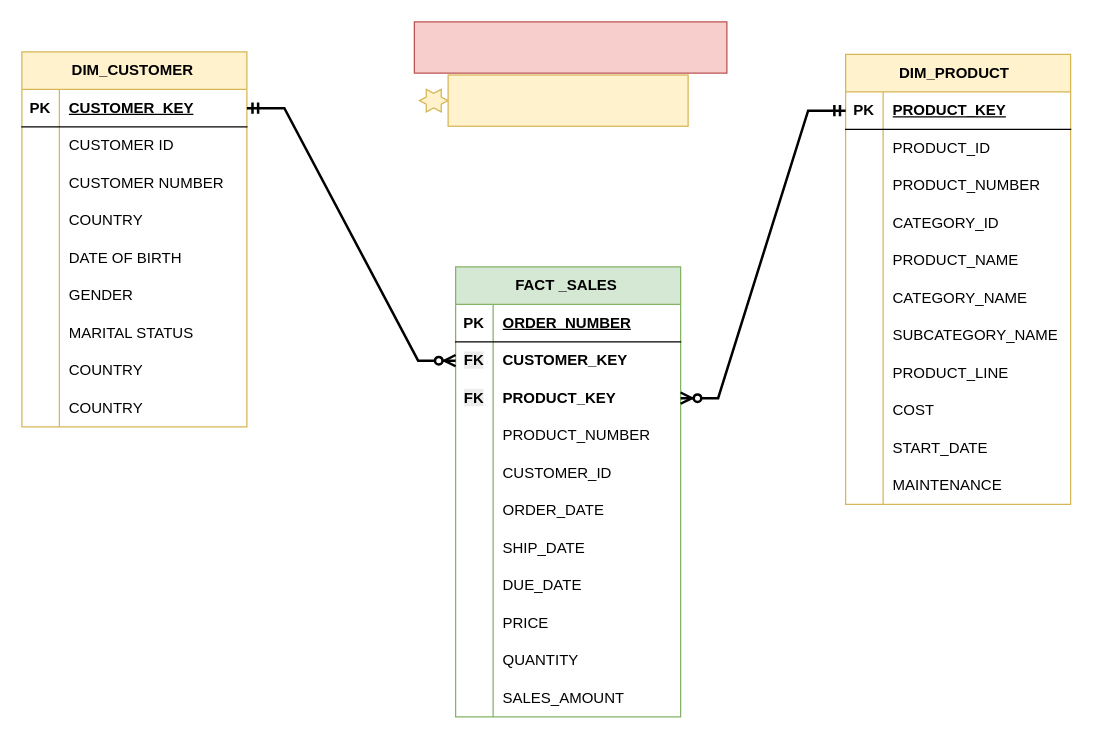
Some shapes in this 1093 by 739 pixel diagram are drawn without their labels. Each missing label, with the centre of its shape:
SALES DATA MART: (x=570, y=47)
STAR SCHEMA: (x=567, y=100)
